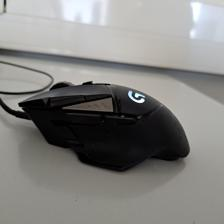mouse: (15, 79, 192, 172)
